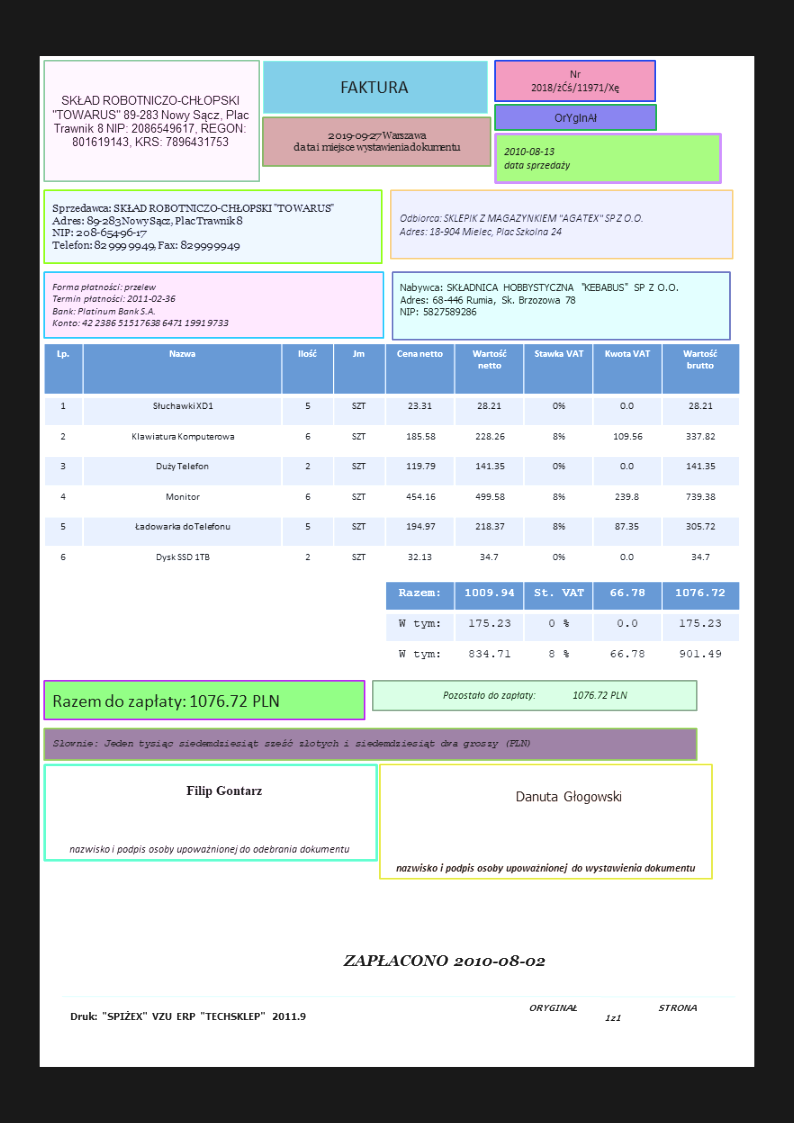Table: (42, 342, 739, 578), (384, 581, 742, 673)
TextBox: (49, 200, 336, 253), (50, 93, 251, 149), (397, 280, 682, 318), (50, 280, 230, 331), (397, 212, 645, 239), (51, 737, 531, 750), (51, 691, 281, 711), (291, 129, 464, 154), (393, 860, 697, 874), (338, 952, 548, 971), (528, 1002, 700, 1024), (67, 843, 351, 856), (69, 1009, 309, 1024), (441, 688, 630, 702), (528, 69, 622, 96), (501, 144, 572, 172), (514, 789, 623, 807), (338, 78, 410, 98), (184, 782, 264, 799), (552, 109, 599, 125)
